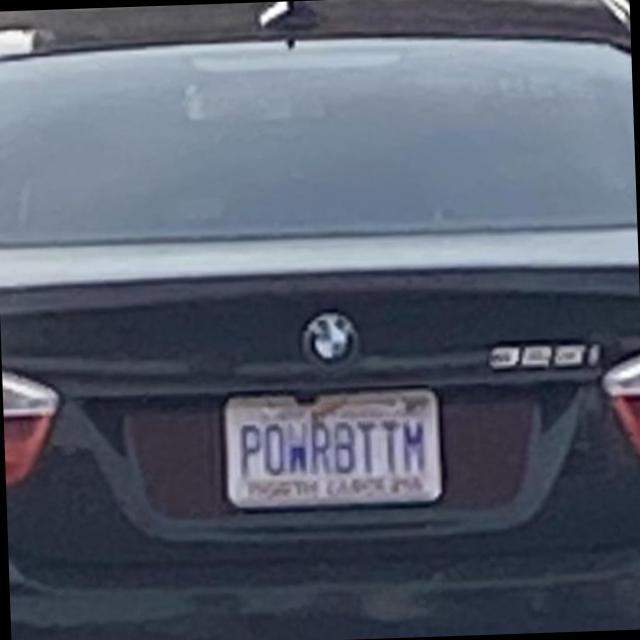LicensePlate: (219, 389, 443, 510)
